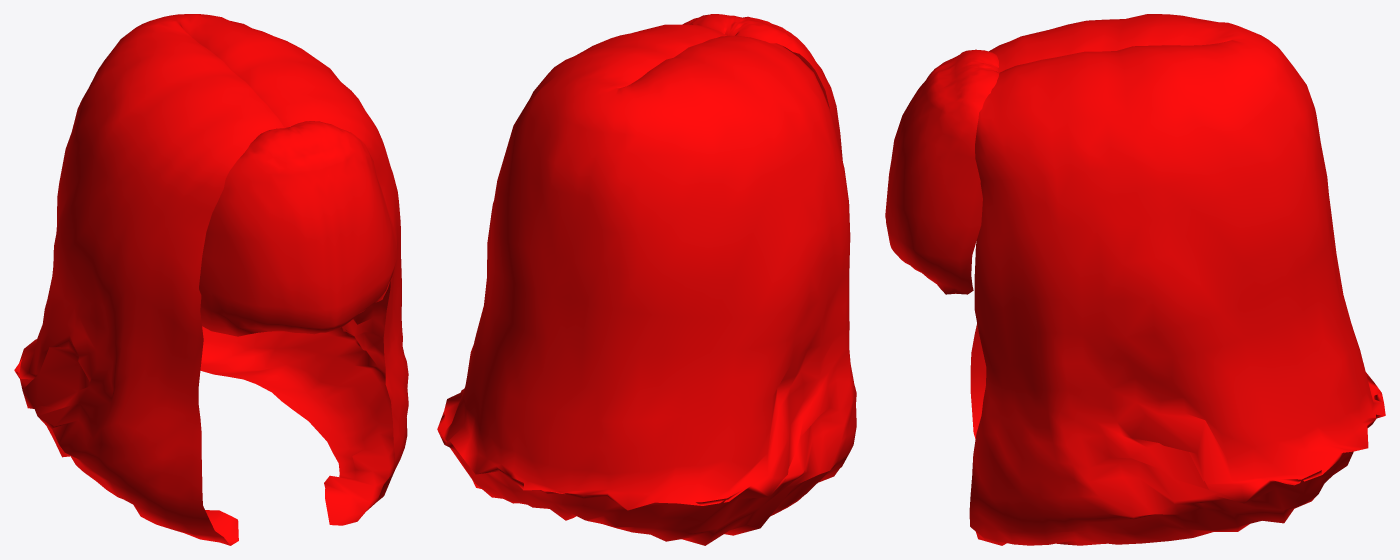
File: toigo_curled_under_bob_with_bangs_M.glb
3 renders of one model, left to right at view 1: azimuth 30°, elevation 25°; view 2: azimuth 150°, elevation 25°; view 3: azimuth 270°, elevation 25°, orthographic. The views are drawn at different scales.
Size of the model in its own units: 0.2113 by 0.2705 by 0.2595.
1 material, 1 textured.
